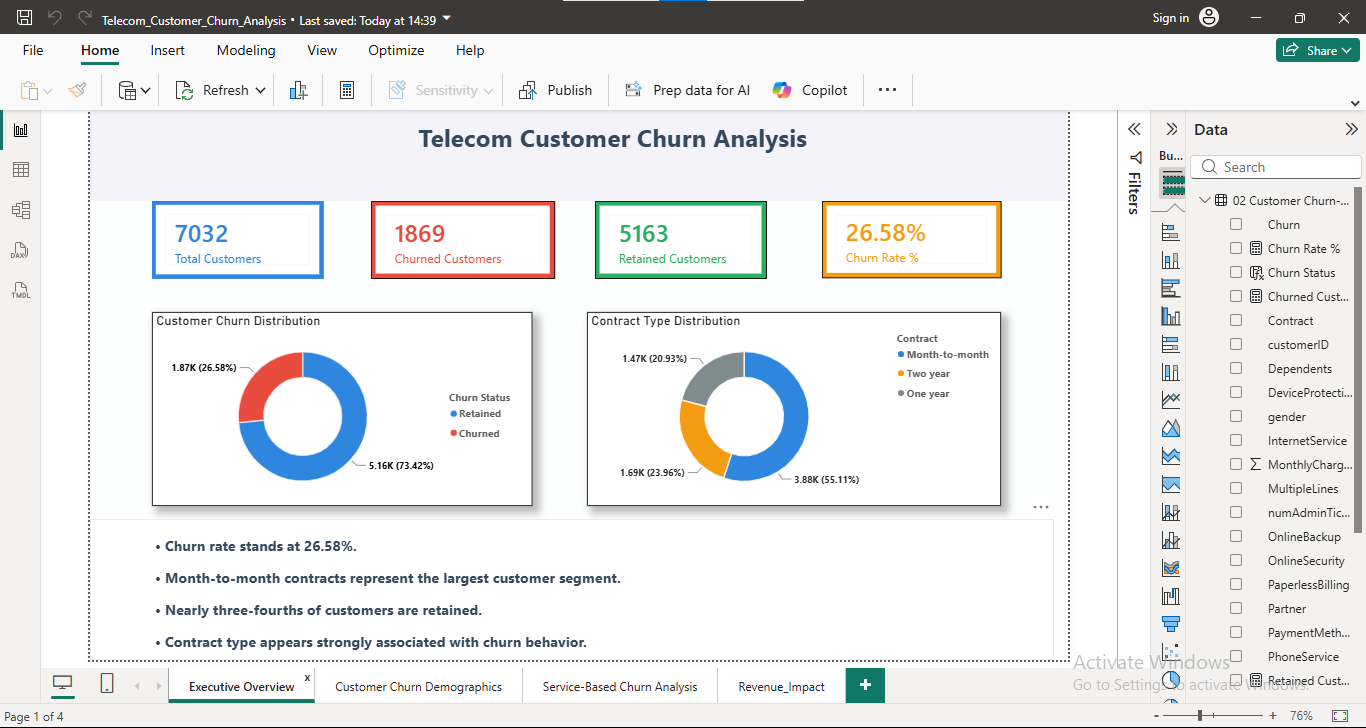

What the dashboard file says about the page in this screenshot:
{"tool":"powerbi","page":{"name":"Executive Overview","canvas":[1280,720],"ordinal":0},"visuals":[{"type":"cardVisual","fields":{"Data":["WA_Fn-UseC_-Telco-Customer-Churn.Total Customers"]},"box":[80.7,119.2,224.7,101.8],"z":0},{"type":"cardVisual","fields":{"Data":["WA_Fn-UseC_-Telco-Customer-Churn.Churned Customers"]},"box":[367.4,119.2,240.8,101.8],"z":1000},{"type":"cardVisual","fields":{"Data":["WA_Fn-UseC_-Telco-Customer-Churn.Retained Customers"]},"box":[661.6,119.2,224.7,101.8],"z":2000},{"type":"donutChart","title":"Customer Churn Distribution","fields":{"Category":["WA_Fn-UseC_-Telco-Customer-Churn.Churn Status"],"Y":["CountNonNull(WA_Fn-UseC_-Telco-Customer-Churn.customerID)"]},"box":[80.7,264.4,497.8,254.5],"z":3000},{"type":"donutChart","title":"Contract Type Distribution","fields":{"Category":["WA_Fn-UseC_-Telco-Customer-Churn.Contract"],"Y":["CountNonNull(WA_Fn-UseC_-Telco-Customer-Churn.customerID)"]},"box":[650.4,264.4,542.4,254.5],"z":4000},{"type":"cardVisual","fields":{"Data":["WA_Fn-UseC_-Telco-Customer-Churn.Churn Rate %"]},"box":[958.3,119.2,234.6,100.5],"z":5000},{"type":"textbox","box":[0,535,1262.4,185],"z":6000},{"type":"textbox","box":[0,0,1279.8,119.2],"z":7000}]}

Visuals, with their boxes on the page's 1280x720 design canvas (x1, y1, x2, y2). These are canvas units, not pixel positions in the 1366x728 screenshot, which may show the page scaled, cropped or inside an application window:
cardVisual - WA_Fn-UseC_-Telco-Customer-Churn.Total Customers: {"x1": 81, "y1": 119, "x2": 305, "y2": 221}
cardVisual - WA_Fn-UseC_-Telco-Customer-Churn.Churned Customers: {"x1": 367, "y1": 119, "x2": 608, "y2": 221}
cardVisual - WA_Fn-UseC_-Telco-Customer-Churn.Retained Customers: {"x1": 662, "y1": 119, "x2": 886, "y2": 221}
"Customer Churn Distribution" donutChart: {"x1": 81, "y1": 264, "x2": 578, "y2": 519}
"Contract Type Distribution" donutChart: {"x1": 650, "y1": 264, "x2": 1193, "y2": 519}
cardVisual - WA_Fn-UseC_-Telco-Customer-Churn.Churn Rate %: {"x1": 958, "y1": 119, "x2": 1193, "y2": 220}
textbox: {"x1": 0, "y1": 535, "x2": 1262, "y2": 720}
textbox: {"x1": 0, "y1": 0, "x2": 1280, "y2": 119}
